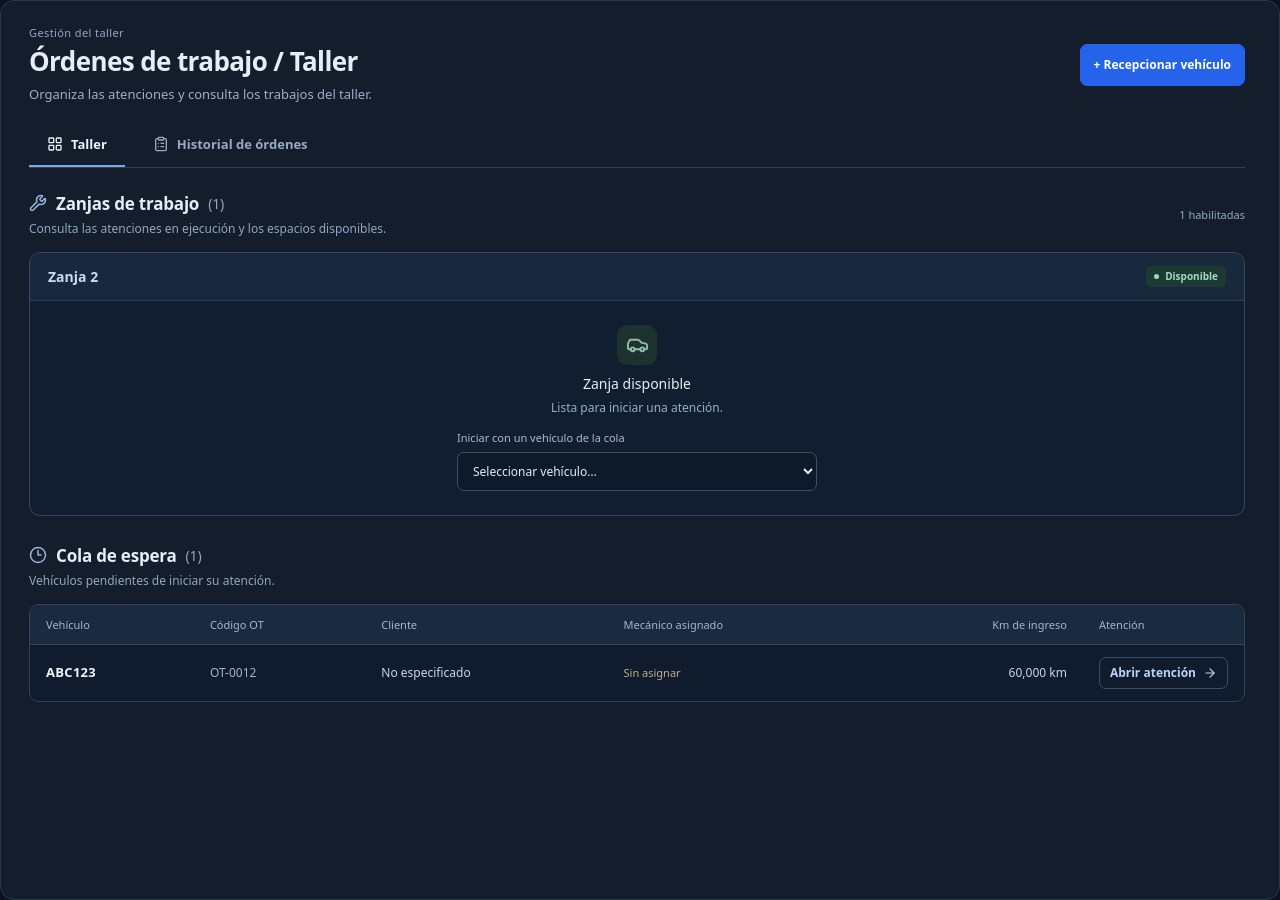
Avisos de recepción, inicio directo y consultas › el rechazo conserva la recepción escrita y no anuncia éxito
Check: the text "ABC123" is shown, box x1=46 y1=663 x2=96 y2=681
Step 1. Click the button "+ Recepcionar vehículo" → coordinates (1162, 65), box x1=1080 y1=44 x2=1245 y2=86
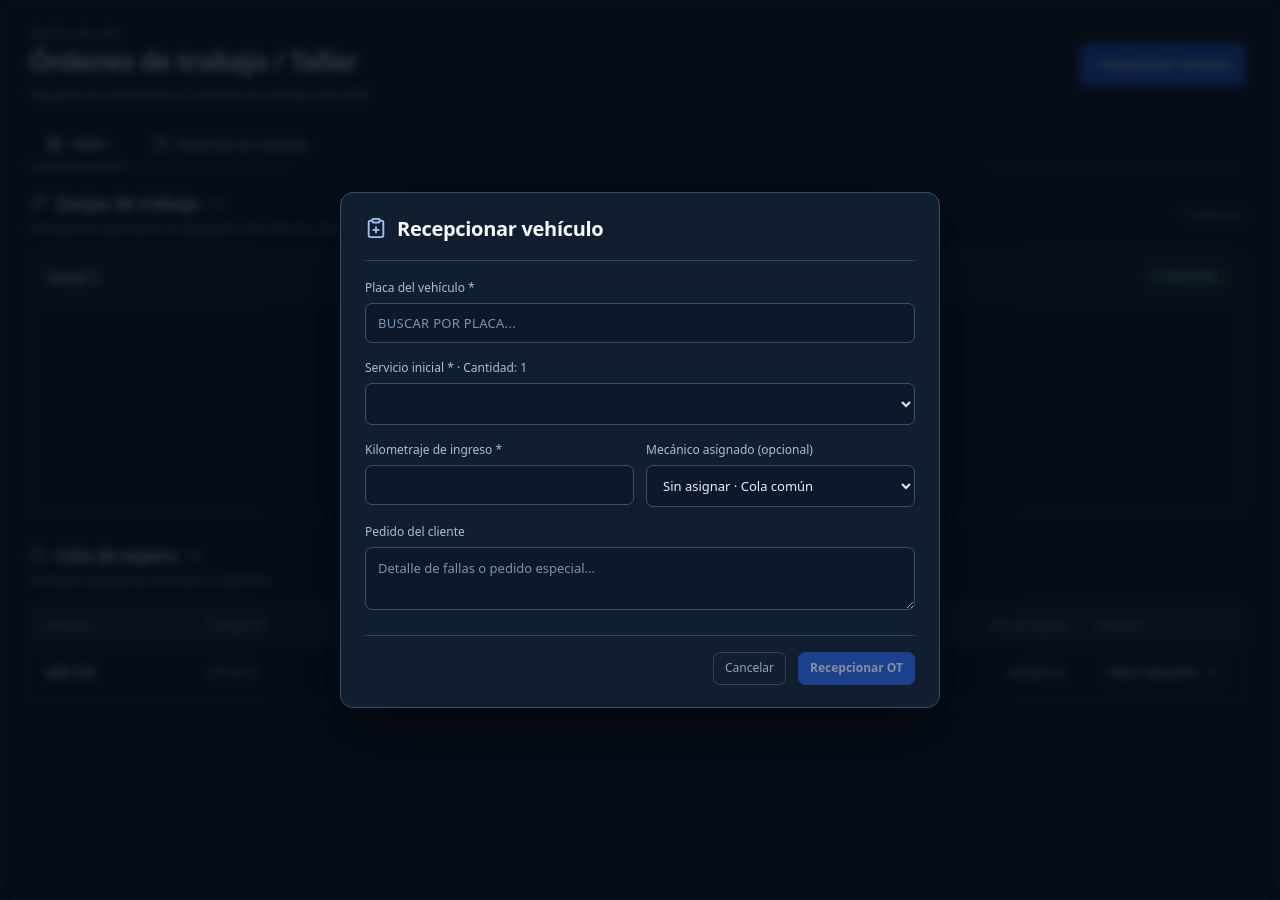
Step 2. Type "ABC123" into the field with placeholder "Buscar por placa..." → coordinates (640, 323), box x1=365 y1=303 x2=915 y2=343
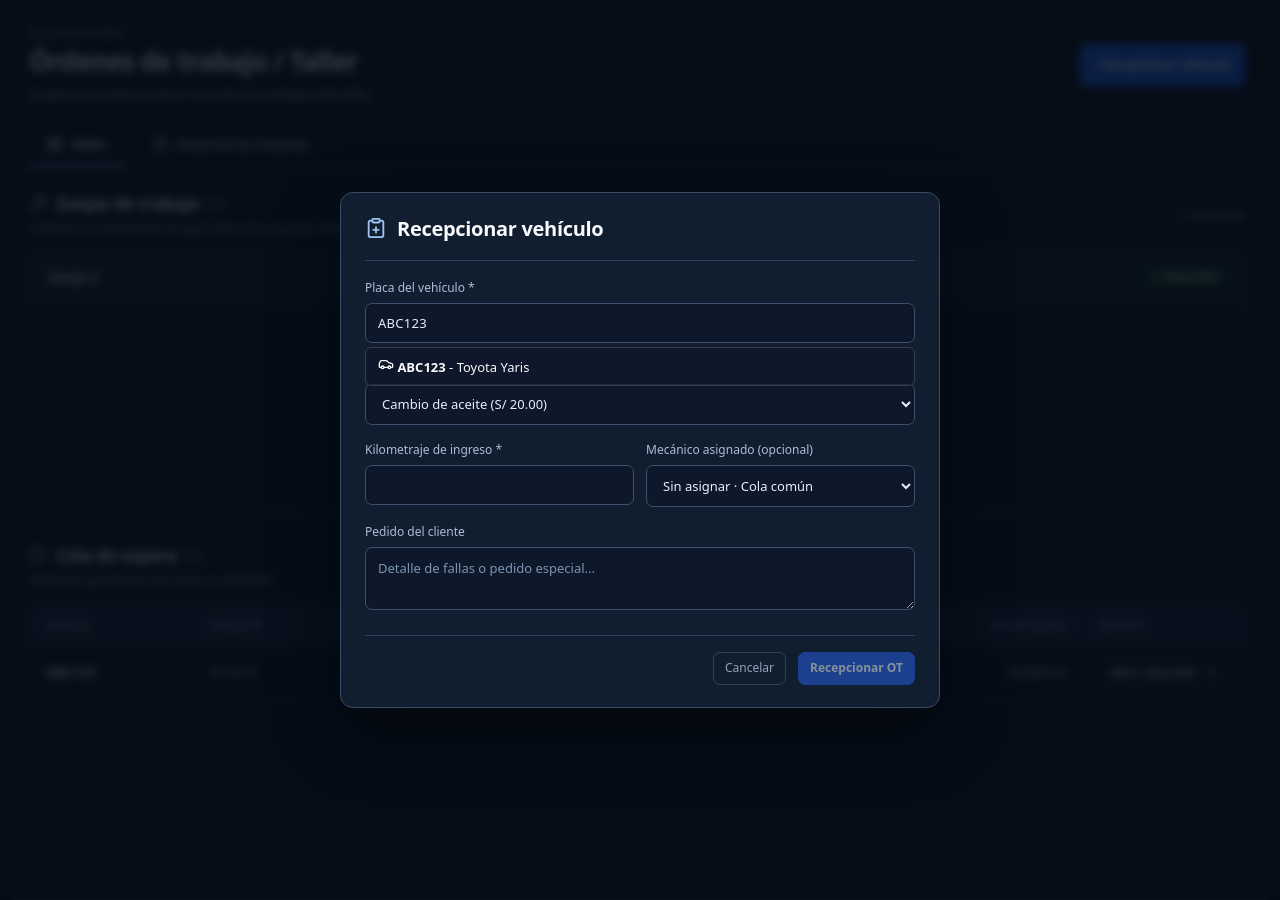
Step 3. Click the text "ABC123 - Toyota Yaris" → coordinates (640, 366), box x1=366 y1=348 x2=914 y2=385
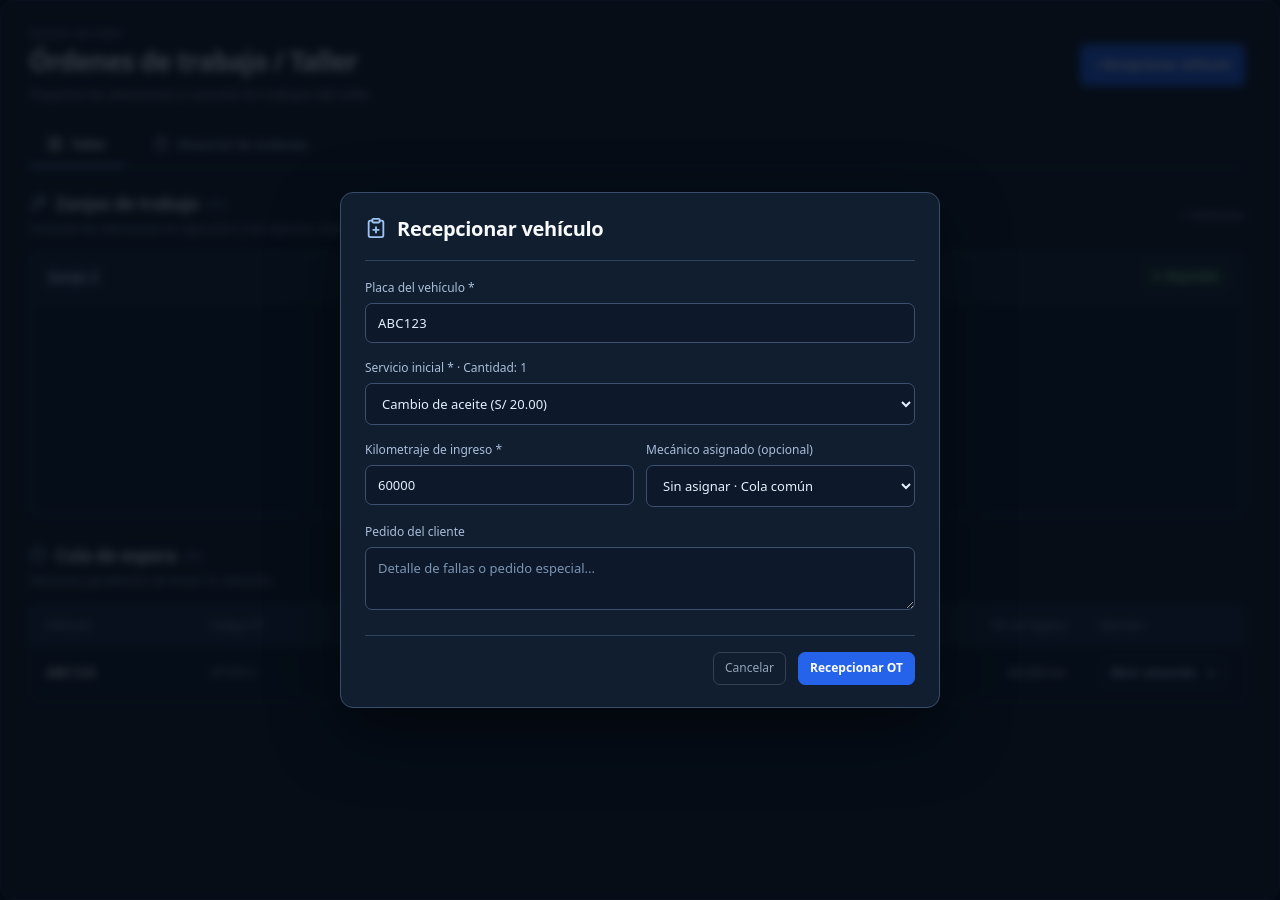
Check: the button "Recepcionar OT" is enabled, box x1=798 y1=652 x2=915 y2=685
Step 4. Type "Revisar niveles y filtro" into the text box with placeholder "Detalle de fallas o pedido especial..." → coordinates (640, 579), box x1=365 y1=547 x2=915 y2=610
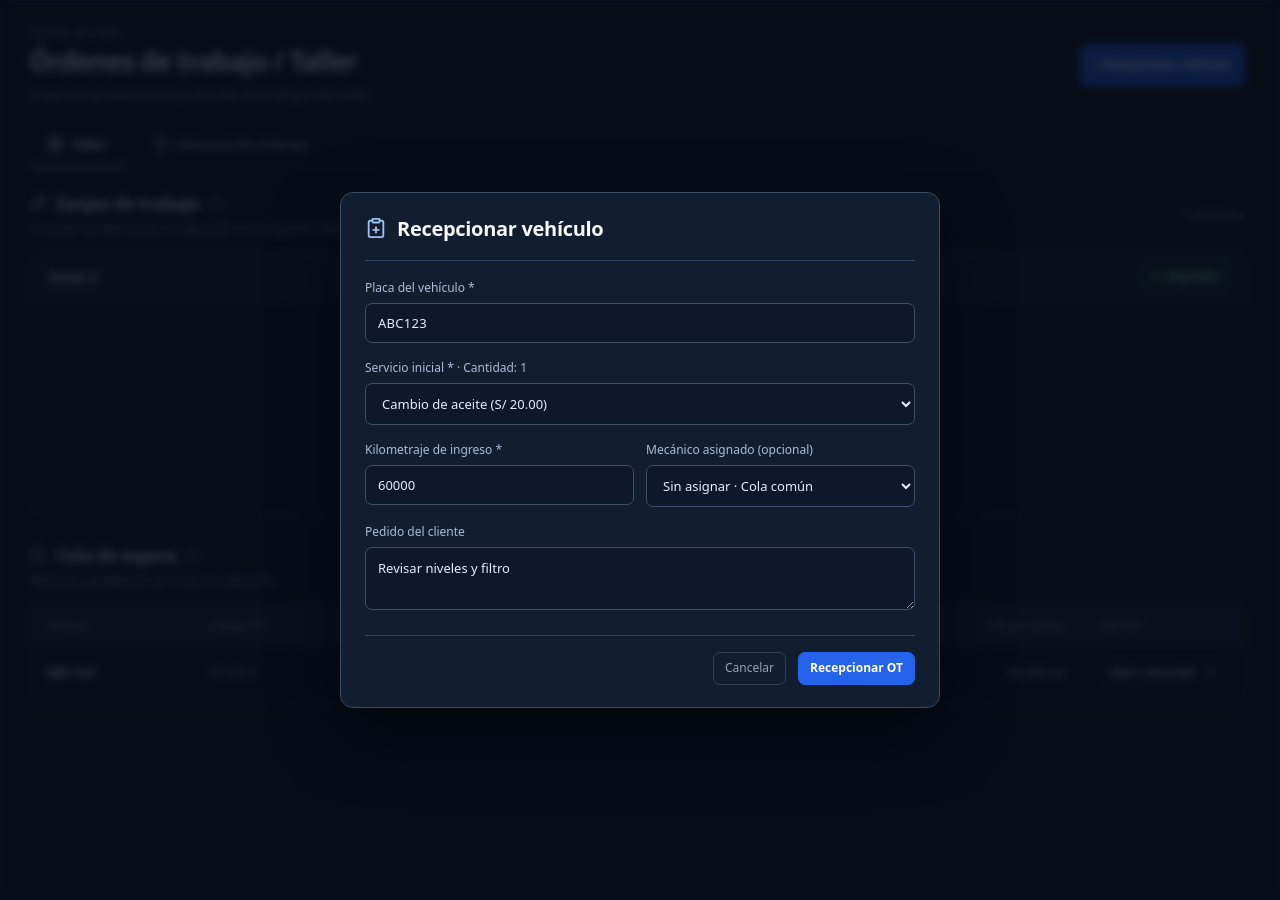
Step 5. Click the button "Recepcionar OT" → coordinates (856, 669), box x1=798 y1=652 x2=915 y2=685
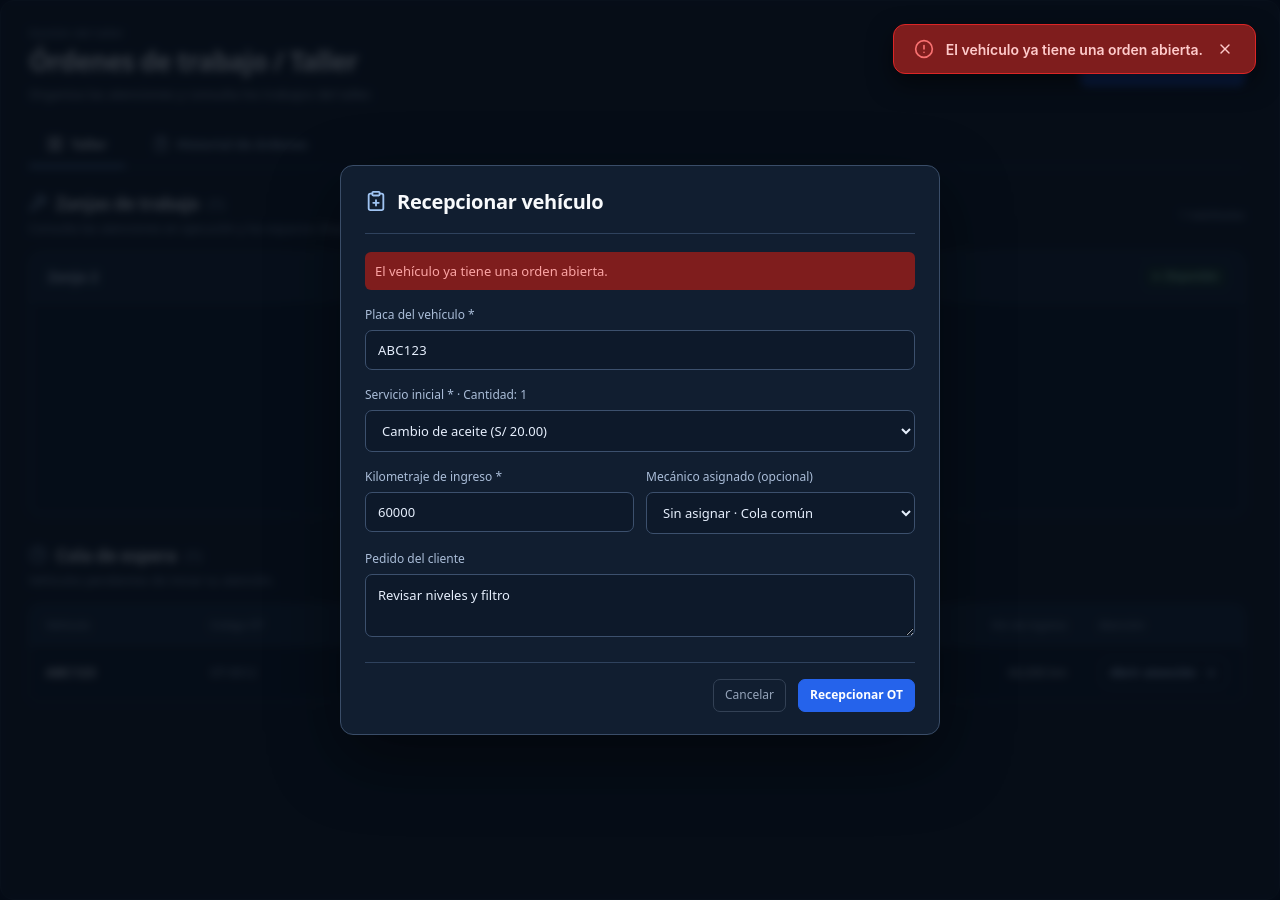
Check: the message shows "ya tiene una orden abierta", box x1=375 y1=262 x2=608 y2=280
